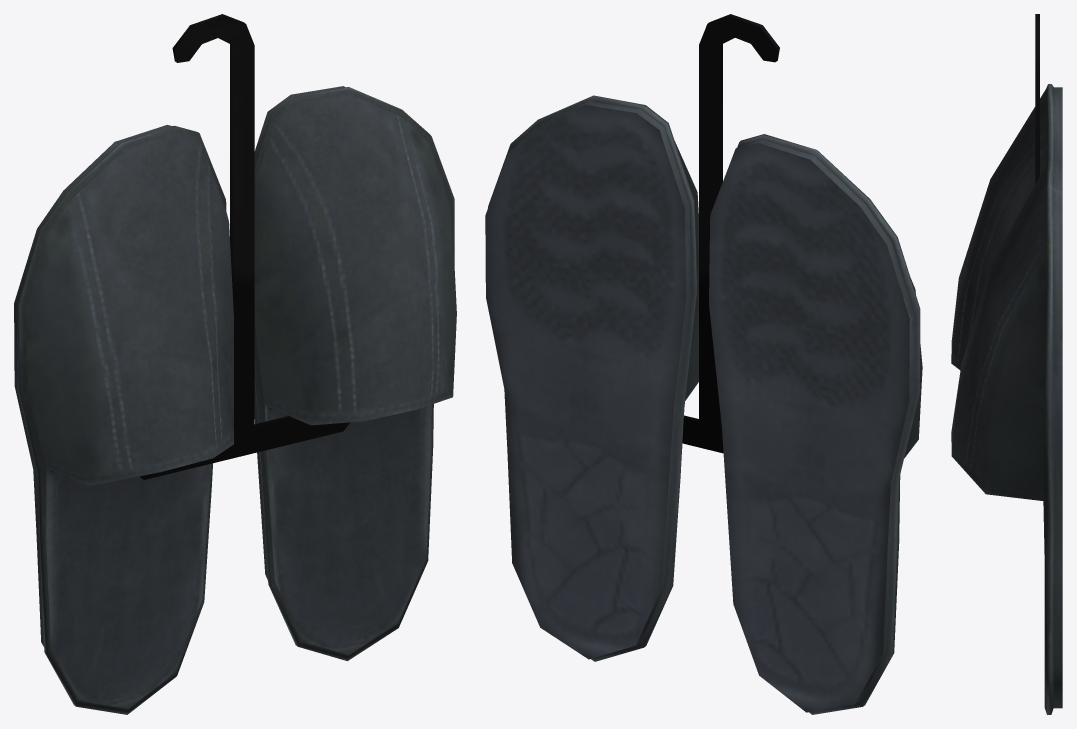
The model's file is Product_slippers02.FBX.
The picture shows the model from 3 angles, left to right: view 1: azimuth 30°, elevation 25°; view 2: azimuth 150°, elevation 25°; view 3: azimuth 270°, elevation 25°; orthographic projection. The views are drawn at different scales.
Visible parts, largest first — view 1: Product_slippers02_LOD00; view 2: Product_slippers02_LOD00; view 3: Product_slippers02_LOD00.
Boxes of the visible parts, x1=… form: Product_slippers02_LOD00: x1=14, y1=14, x2=456, y2=714; Product_slippers02_LOD00: x1=485, y1=14, x2=922, y2=714; Product_slippers02_LOD00: x1=951, y1=14, x2=1062, y2=714.
Size of what is drawn, in the model's own units: 0.3044 by 0.4537 by 0.0729.
